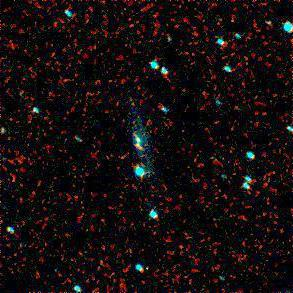star: (122, 131, 152, 161)
